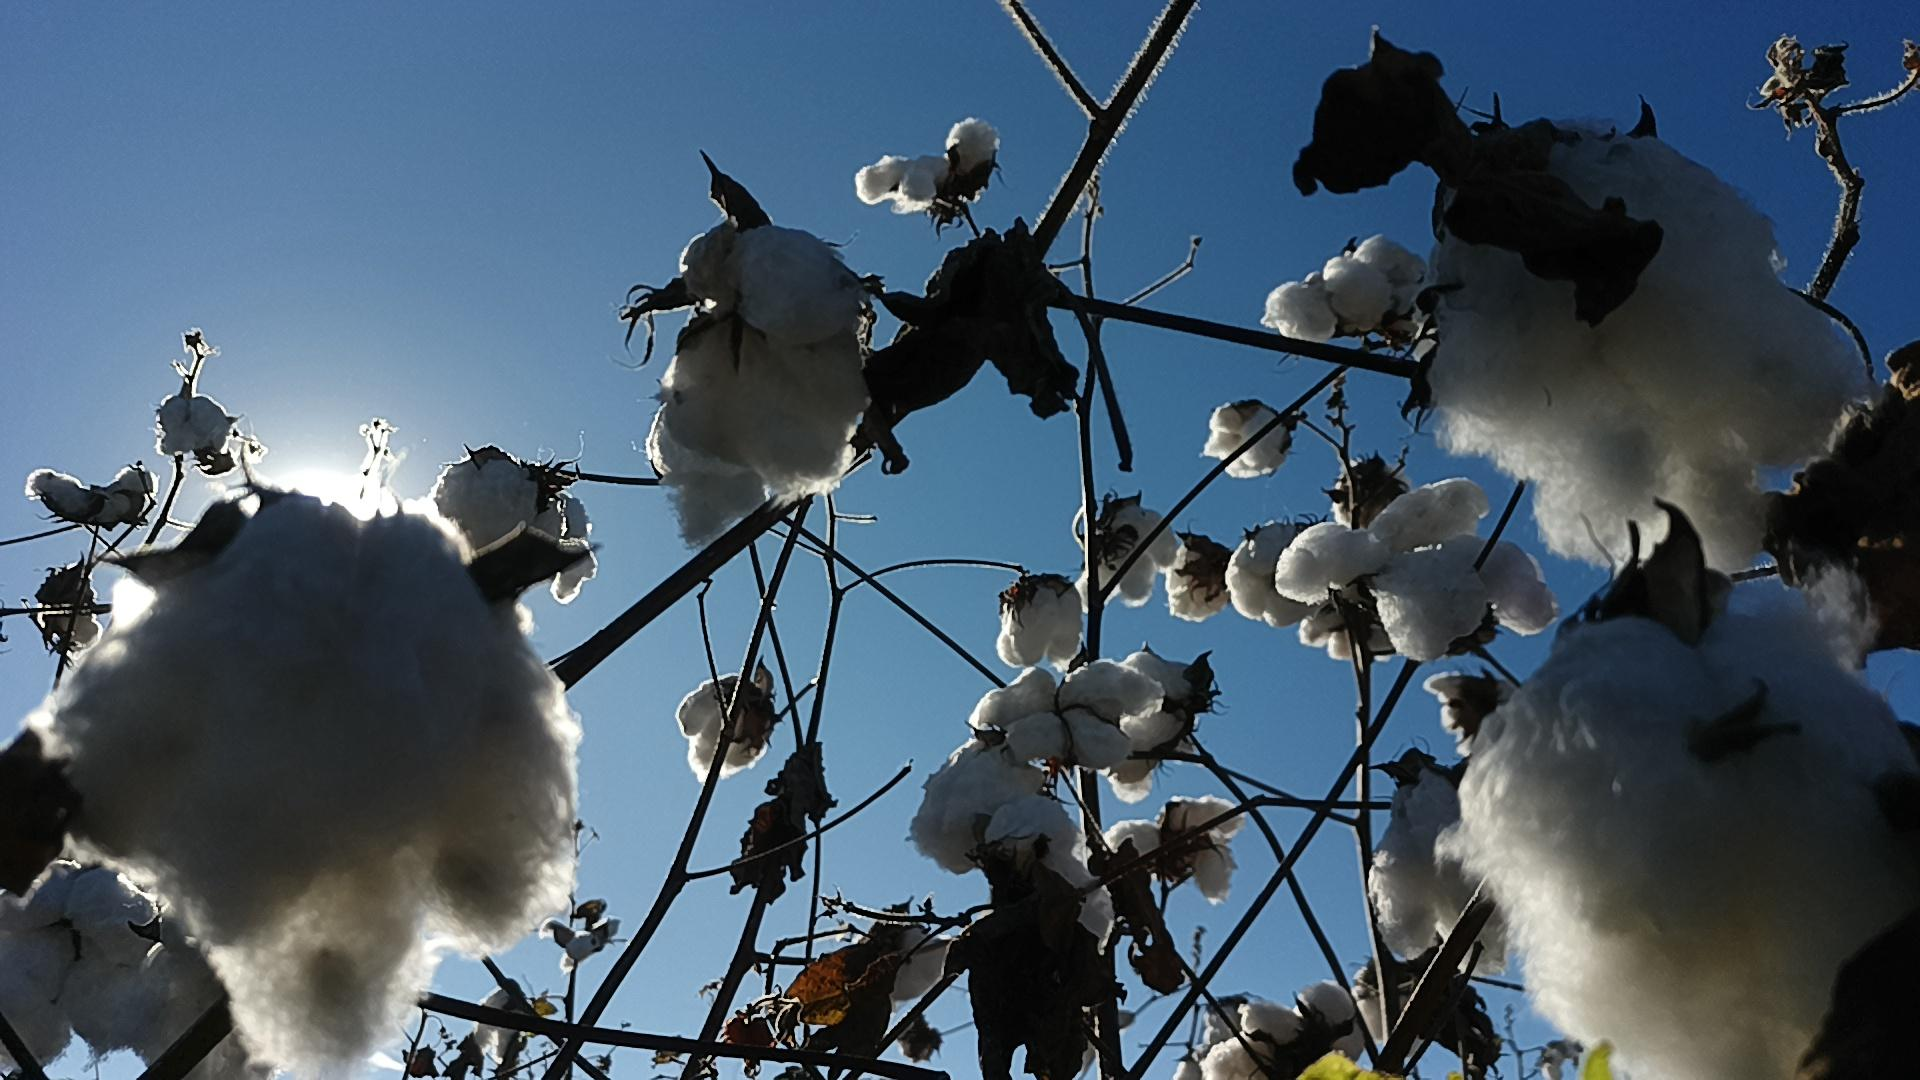cotton_ready: (38, 473, 584, 1080), (1448, 575, 1920, 1080), (1418, 120, 1866, 571), (642, 215, 868, 555), (1280, 468, 1553, 669), (911, 750, 1121, 943), (969, 657, 1160, 767), (1265, 232, 1424, 348), (442, 447, 578, 580), (1203, 980, 1370, 1080), (852, 112, 997, 216)
